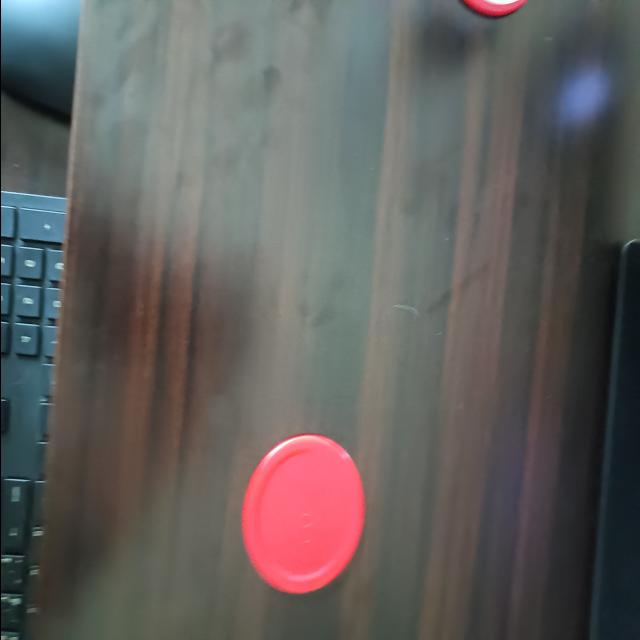chip: (238, 428, 364, 596)
